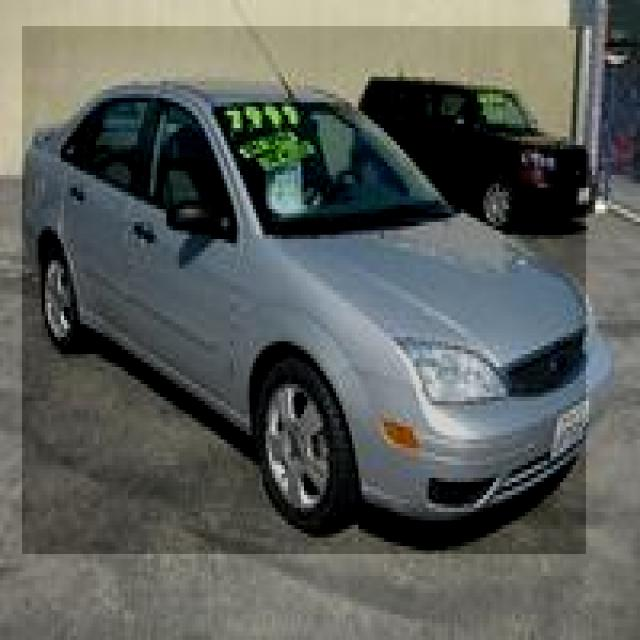Car: (22, 26, 586, 554)
